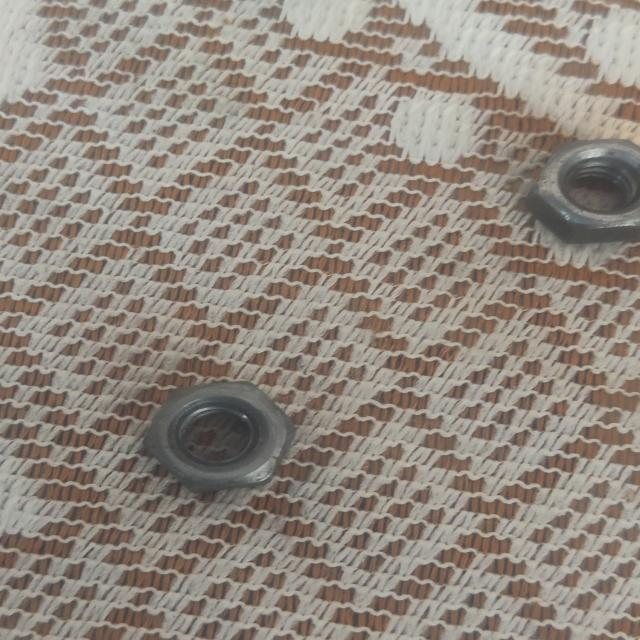disinfected nut: (143, 382, 297, 490), (527, 140, 640, 242)
